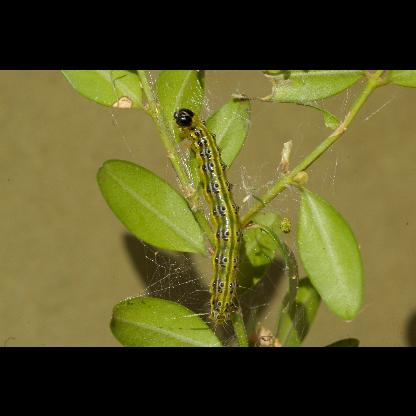oruga: (186, 98, 232, 320)
